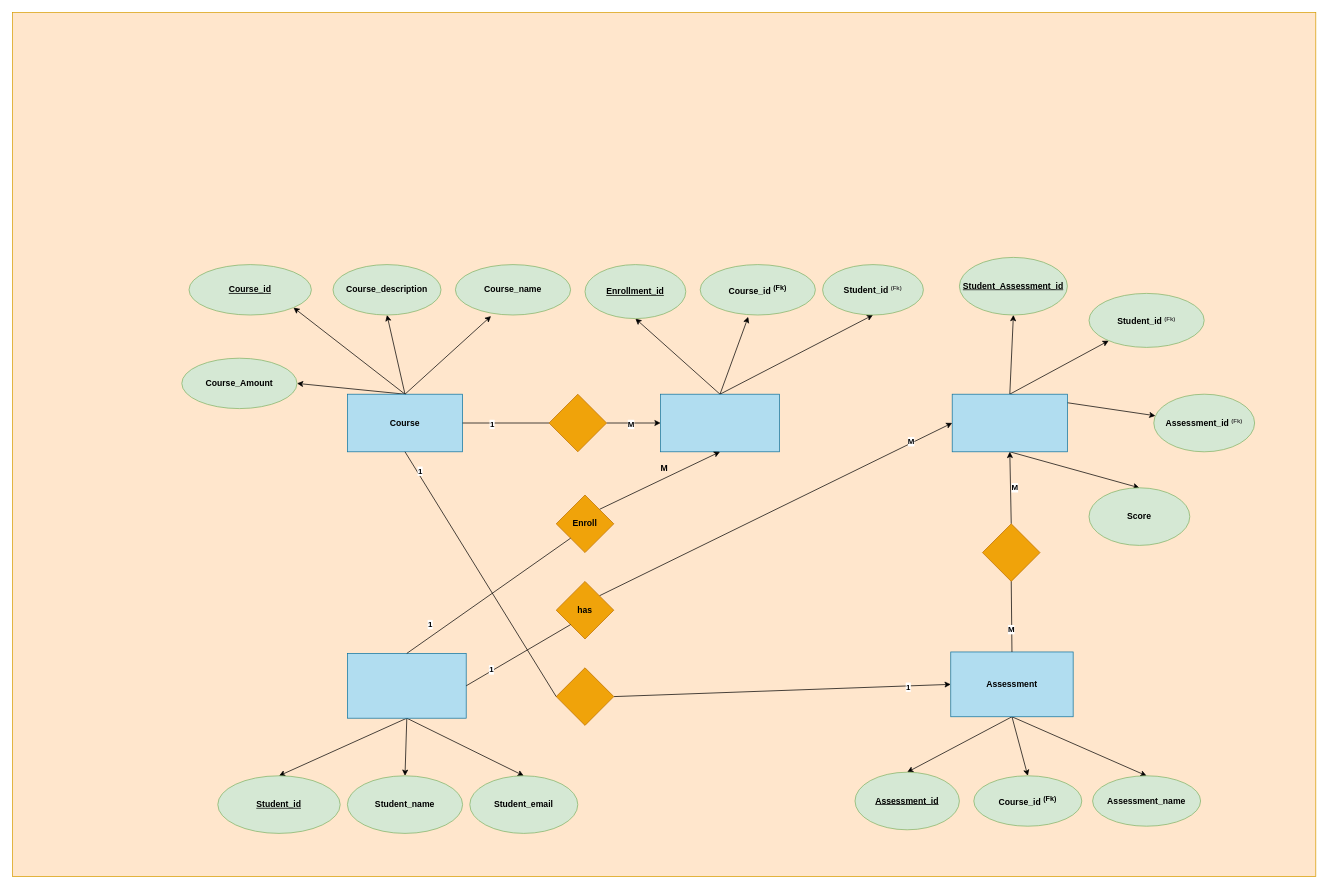
Some shapes in this 1328 by 889 pixel diagram are drawn without their labels. The shapes that lost their labels are listed below. From the top down, each one's box as (x1, y1, x2, y2) in pixels, then its label:
(548, 393, 607, 452): assigned
(660, 393, 779, 452): Enrollment
(951, 393, 1067, 452): Student_Assessment
(982, 523, 1040, 581): Contains
(347, 653, 466, 718): Student
(555, 667, 614, 725): includes
